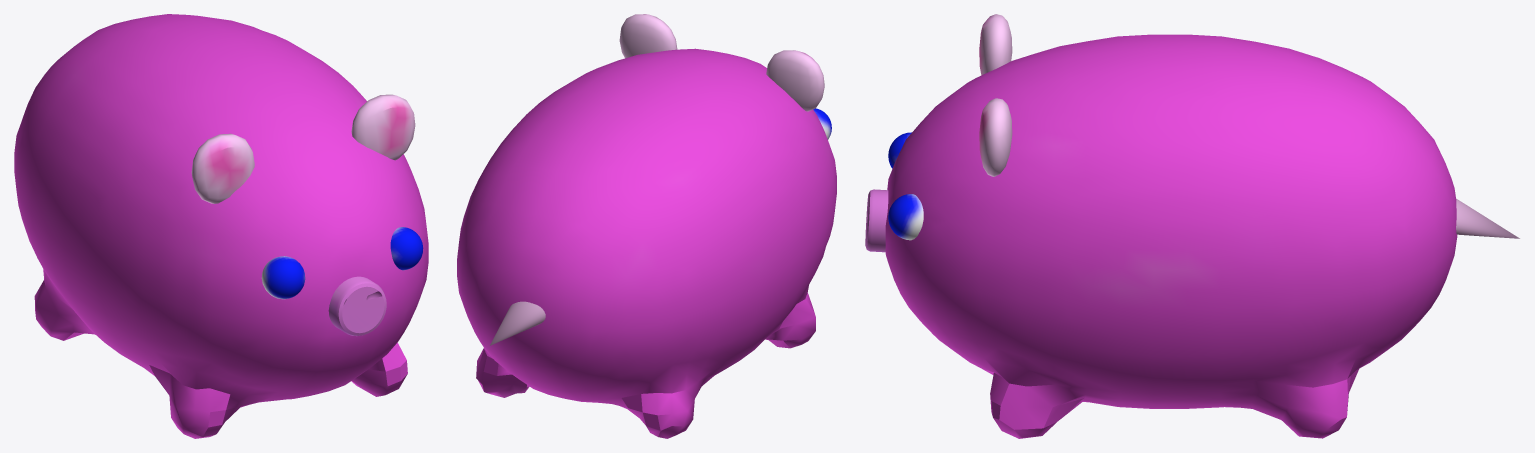
3 renders of one model, left to right at view 1: azimuth 30°, elevation 25°; view 2: azimuth 150°, elevation 25°; view 3: azimuth 270°, elevation 25°, orthographic. The views are drawn at different scales.
Parts seen in each view (by area): view 1: body, eyes; view 2: body; view 3: body, eyes.
Boxes of the visible parts, bbox=[...] form: body: bbox=[14, 14, 428, 438]; eyes: bbox=[261, 227, 423, 299]; body: bbox=[457, 14, 836, 438]; body: bbox=[865, 14, 1519, 438]; eyes: bbox=[888, 132, 923, 240].
Bounding box in the file's own units: 158 × 158 × 280.
